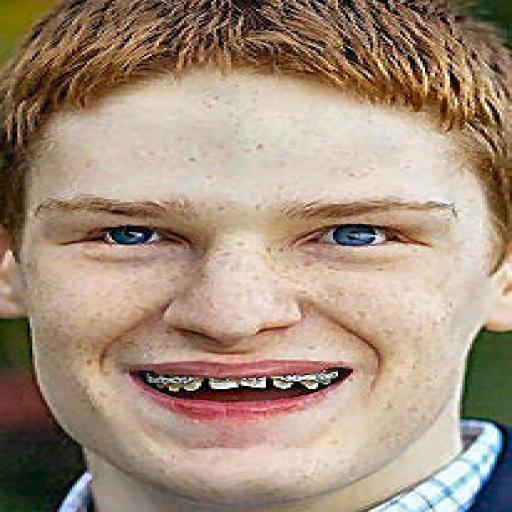Autism: (16, 7, 512, 497)
